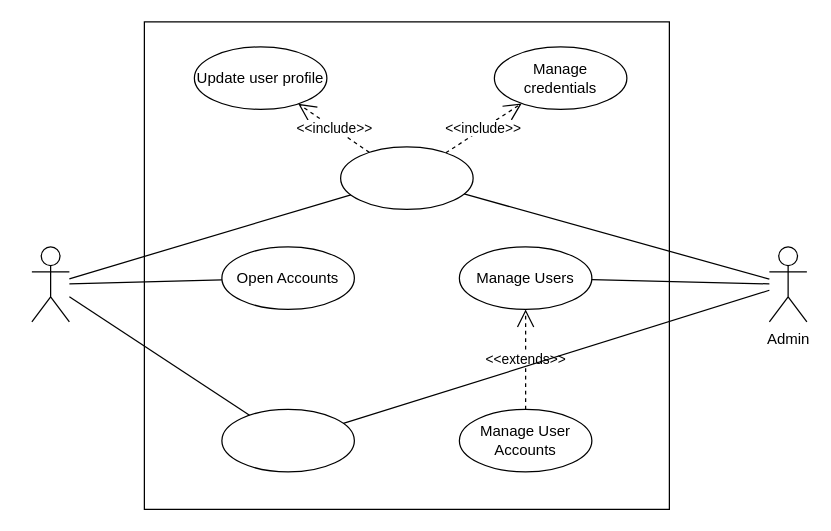
Some shapes in this 831 by 531 pixel diagram are drawn without their labels. Each missing label, with the centre of its shape:
"EndUser" belongs at point 50,284.
"Register/Login" belongs at point 406,177.
"View Accounts" belongs at point 287,440.
